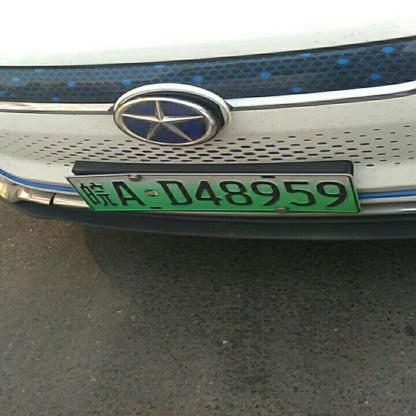lp: (66, 176, 360, 213)
